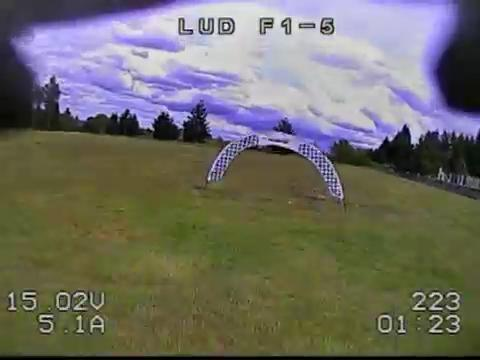gate: (204, 131, 343, 203)
